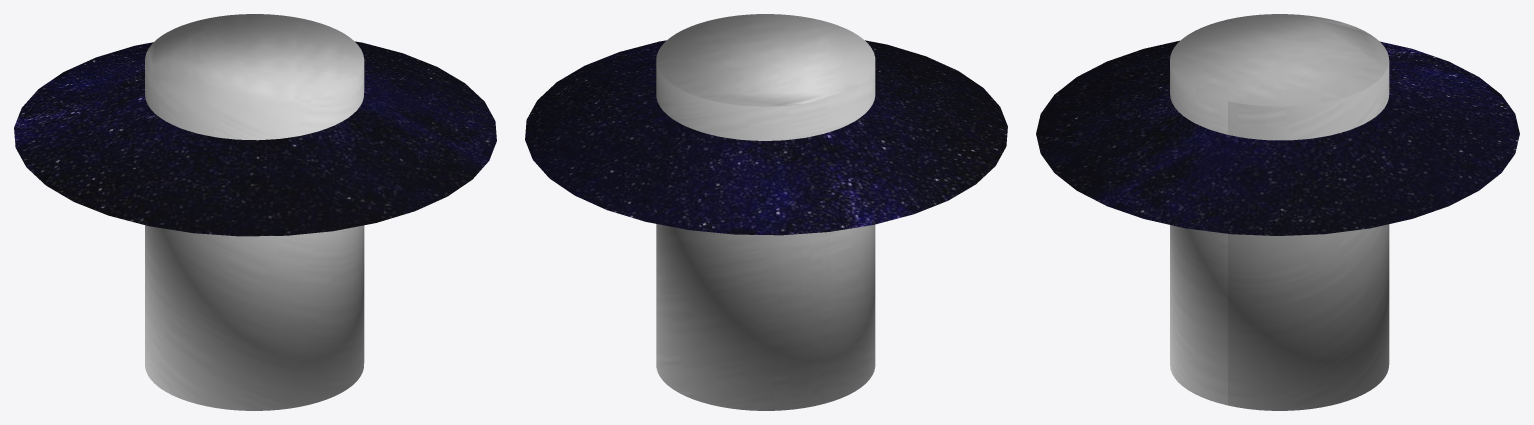
File: CylinderBumper.obj
3 renders of one model, left to right at view 1: azimuth 30°, elevation 25°; view 2: azimuth 150°, elevation 25°; view 3: azimuth 270°, elevation 25°, orthographic.
Visible parts, largest first — view 1: Cylinder_Cylinder.001, Circle_Circle.001; view 2: Cylinder_Cylinder.001, Circle_Circle.001; view 3: Cylinder_Cylinder.001, Circle_Circle.001.
Part boxes in pixels (x1,y1,x2,y2): Cylinder_Cylinder.001: (145,14,364,410); Circle_Circle.001: (14,41,496,236); Cylinder_Cylinder.001: (656,14,875,410); Circle_Circle.001: (525,40,1007,235); Cylinder_Cylinder.001: (1170,14,1389,410); Circle_Circle.001: (1036,40,1519,235).
Bounding box in the file's own units: 3.55 × 2.47 × 3.55.
